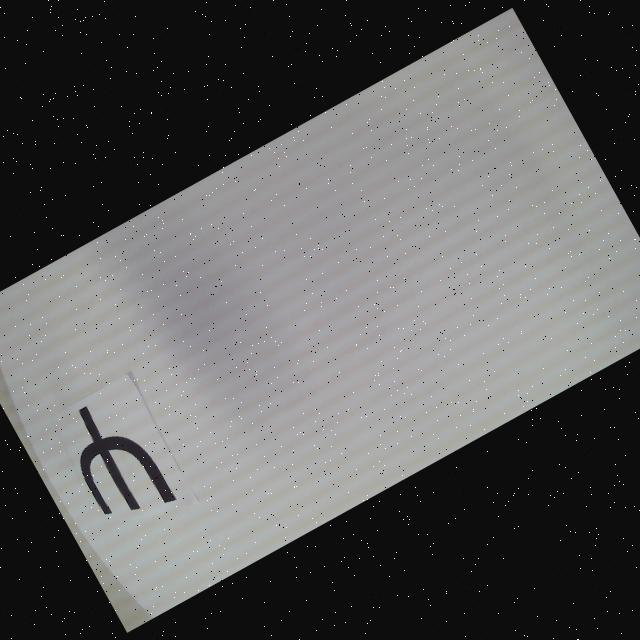PSI: (53, 387, 178, 534)
